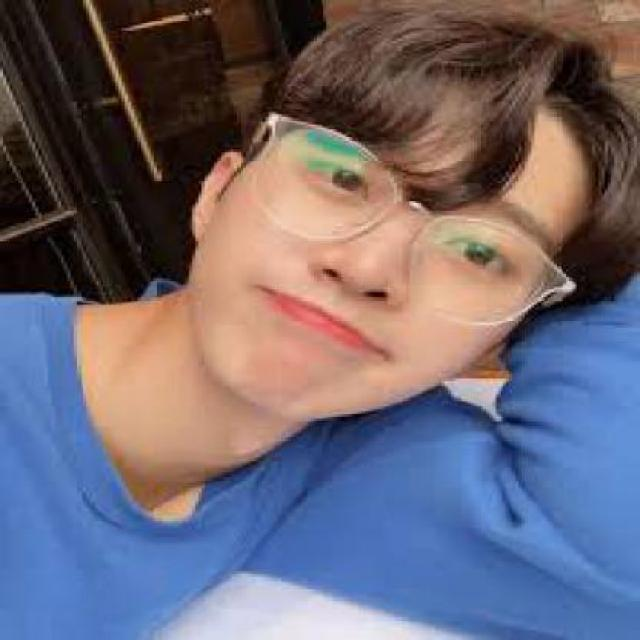Glasses: (242, 98, 580, 327)
